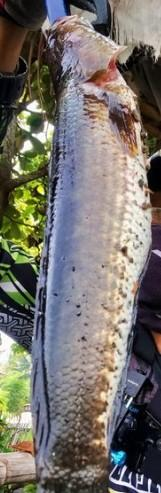Mudfish: (32, 9, 153, 493)
